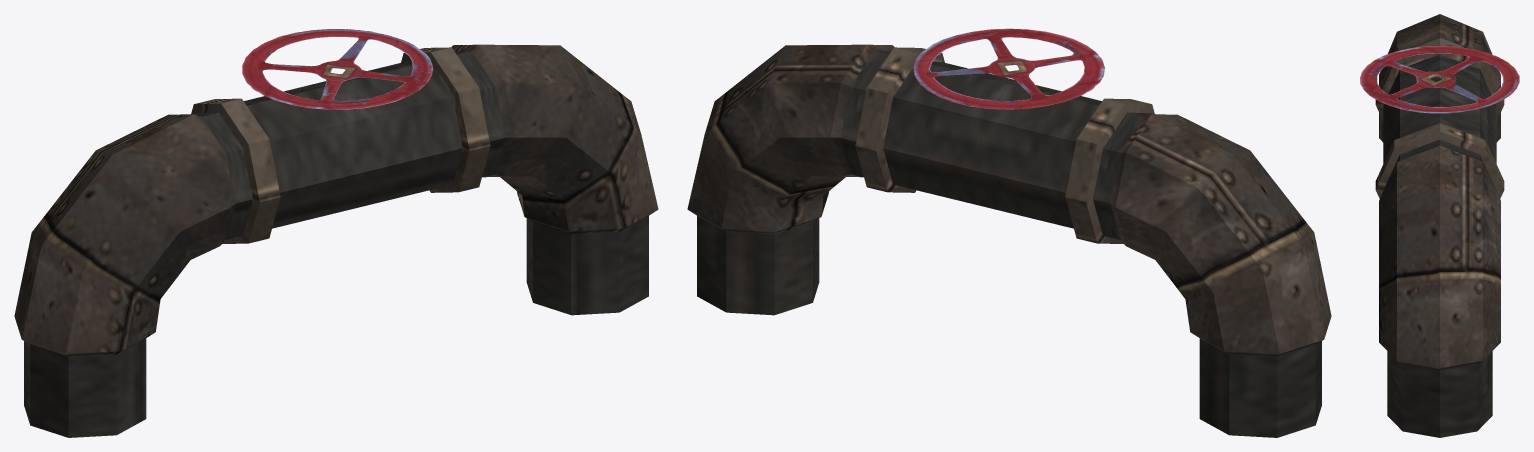
Rendered from pipe_9.fbx.
3 views of the same model, side by side, from view 1: azimuth 30°, elevation 25°; view 2: azimuth 150°, elevation 25°; view 3: azimuth 270°, elevation 25° (orthographic). The views are drawn at different scales.
Parts seen in each view (by area): view 1: pipe_9; view 2: pipe_9; view 3: pipe_9.
Boxes of the visible parts, bbox=[...] form: pipe_9: bbox=[14, 29, 658, 437]; pipe_9: bbox=[687, 28, 1331, 437]; pipe_9: bbox=[1360, 14, 1519, 437].
Bounding box in the file's own units: 5.01 × 2.14 × 1.32.
